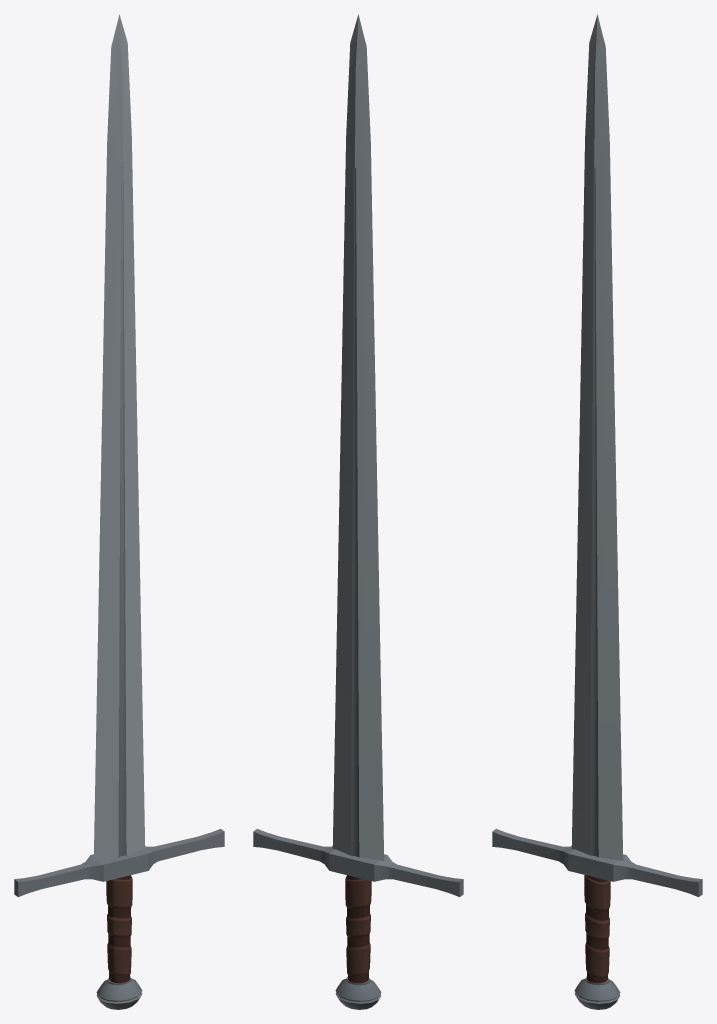
Rendered from SM_Sword01_ArmingSword_1.fbx.
3 views of the same model, side by side, from view 1: azimuth 30°, elevation 25°; view 2: azimuth 150°, elevation 25°; view 3: azimuth 330°, elevation 25° (orthographic).
Parts seen in each view (by area): view 1: Cube.419, Cube.420, Cylinder.519, Sphere.146; view 2: Cube.419, Cube.420, Cylinder.519, Sphere.146; view 3: Cube.419, Cube.420, Cylinder.519, Sphere.146.
Part boxes in pixels (<box>): Cube.419: <box>93,14,145,861</box>; Cube.420: <box>14,828,224,897</box>; Cylinder.519: <box>106,875,132,983</box>; Sphere.146: <box>96,976,142,1009</box>; Cube.419: <box>332,14,384,861</box>; Cube.420: <box>253,828,463,897</box>; Cylinder.519: <box>345,875,371,983</box>; Sphere.146: <box>335,976,381,1009</box>; Cube.419: <box>571,14,623,861</box>; Cube.420: <box>492,828,702,897</box>; Cylinder.519: <box>584,875,610,983</box>; Sphere.146: <box>574,976,620,1009</box>.
Bounding box in the file's own units: 0.2 × 0.9179 × 0.0351.
